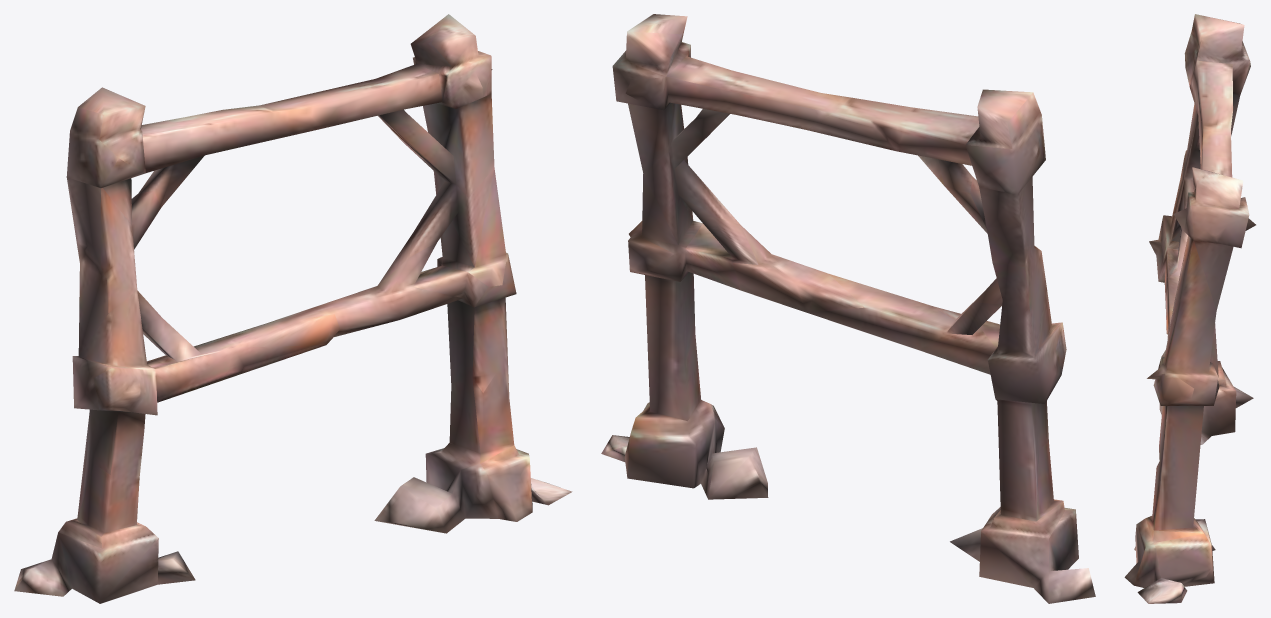
Rendered from sign_frame.glb.
3 views of the same model, side by side, from view 1: azimuth 30°, elevation 25°; view 2: azimuth 150°, elevation 25°; view 3: azimuth 270°, elevation 25° (orthographic). The views are drawn at different scales.
Visible parts, largest first — view 1: sign_frame; view 2: sign_frame; view 3: sign_frame.
Part boxes in pixels (x1,y1,x2,y2): sign_frame: [14, 14, 572, 603]; sign_frame: [601, 14, 1095, 603]; sign_frame: [1124, 14, 1255, 603].
Bounding box in the file's own units: 1.85 × 1.6 × 0.4711.
1 material, 1 textured.
